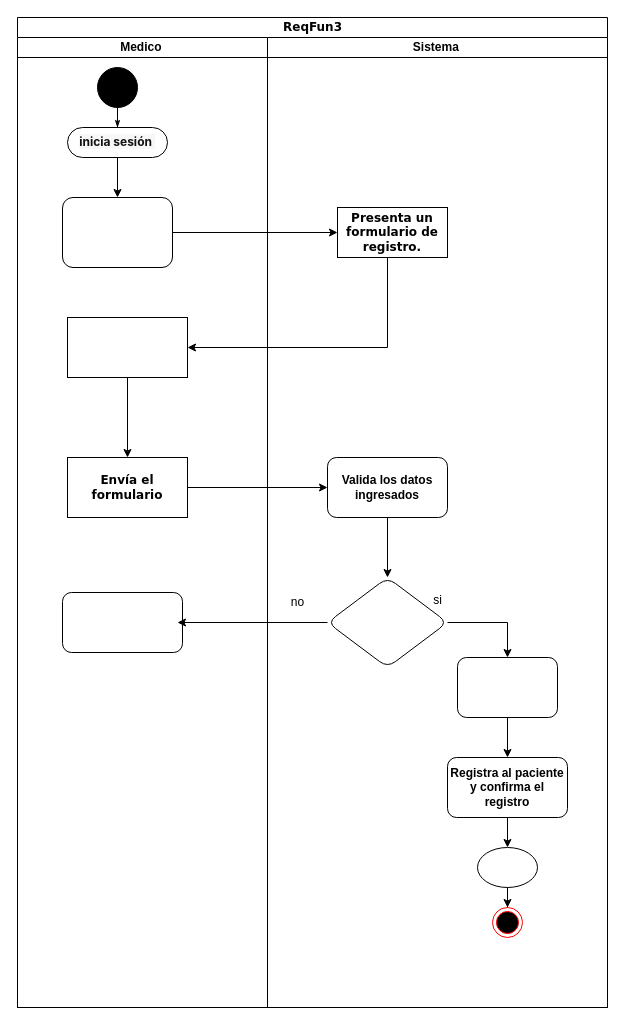
Some shapes in this 625 by 1025 pixel diagram are drawn without their labels. The centre of each missing label's shape, as x and y in pixels:
Error en el proceso ID: point 122,622
fin: point 507,867
Genera un ID único para el paciente: point 507,687
Llena los datos del paciente: point 127,347
Selecciona la opción "Registrar Paciente: point 117,232
